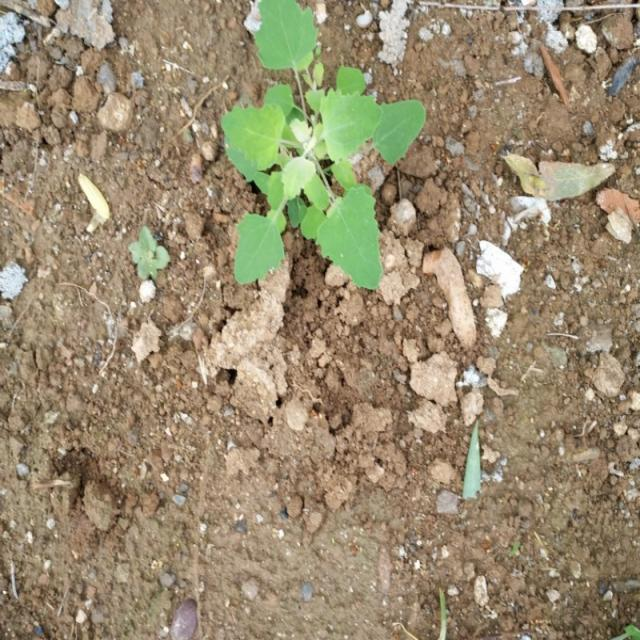ca: (224, 6, 427, 290)
